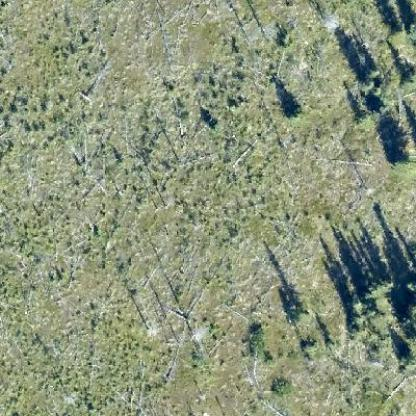tree-top: (387, 145, 413, 176), (364, 274, 395, 300), (281, 99, 310, 125), (245, 322, 268, 353), (289, 304, 314, 328), (386, 24, 409, 49), (270, 375, 294, 396), (345, 289, 366, 310), (362, 63, 383, 81), (355, 106, 372, 126), (301, 336, 318, 354), (396, 74, 415, 90), (399, 354, 415, 370), (206, 117, 220, 132)
